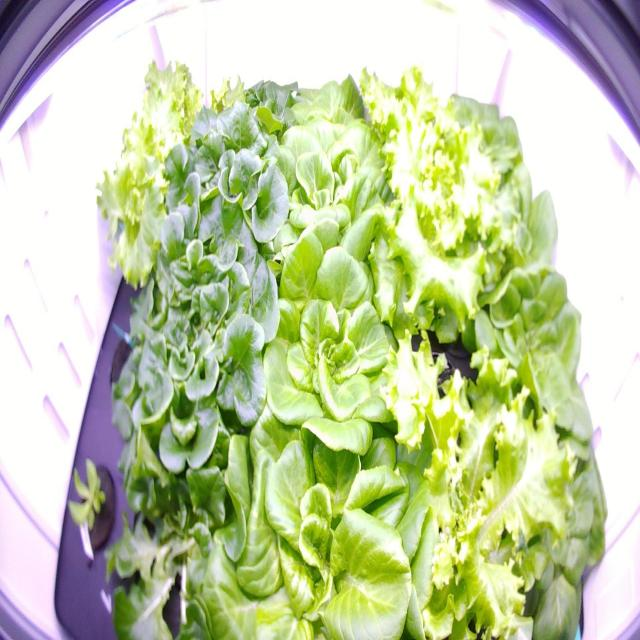Ready: (189, 379, 456, 636), (234, 207, 448, 459), (246, 117, 412, 291)
pod: (100, 322, 154, 412)
young: (460, 408, 612, 636), (454, 253, 598, 453), (427, 152, 562, 313), (273, 63, 391, 164), (427, 83, 522, 194), (58, 447, 120, 563)
